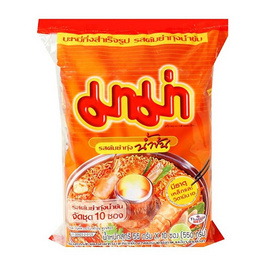Snack: (34, 17, 231, 252)
